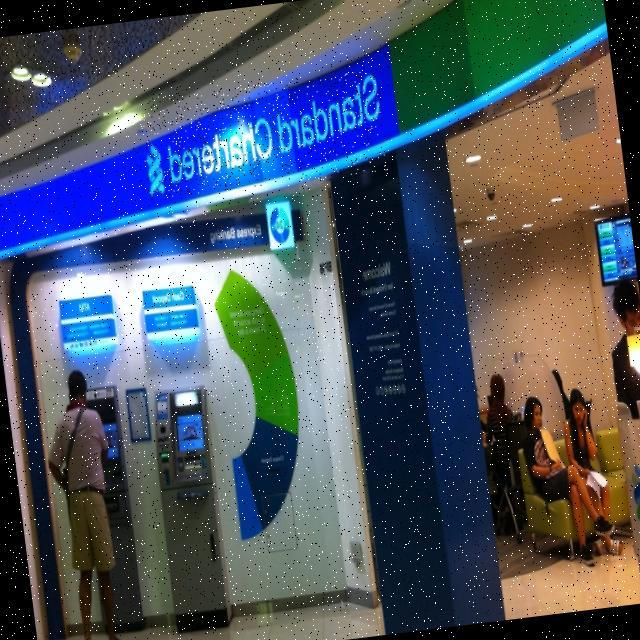Standard Chartered: (136, 70, 387, 200)
